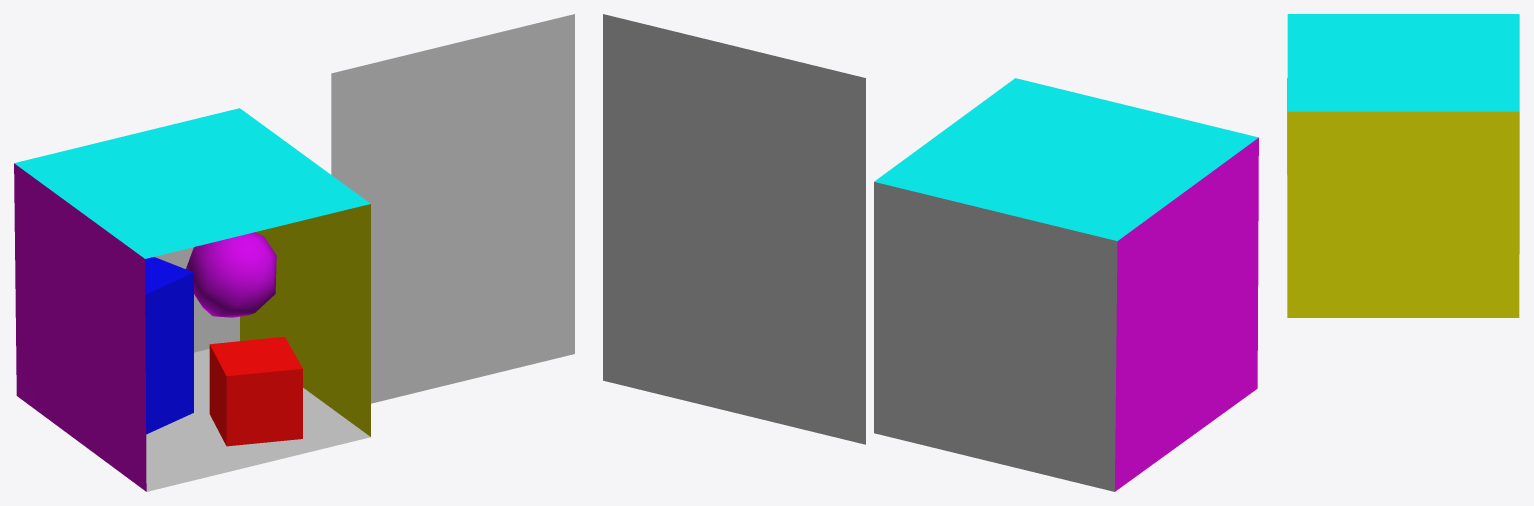
File: cornell-spicy.obj
The picture shows the model from 3 angles, left to right: view 1: azimuth 30°, elevation 25°; view 2: azimuth 150°, elevation 25°; view 3: azimuth 270°, elevation 25°; orthographic projection. The views are drawn at different scales.
Parts seen in each view (by area): view 1: floorfloor, left_wall, ceiling, right_wall, floor, short_box, tall_box, Sphere, back_wall; view 2: floorfloor, back_wall, left_wall, ceiling; view 3: right_wall, ceiling.
Boxes of the visible parts, x1,y1,x2,y2 form: floorfloor: (331, 14, 574, 403); left_wall: (14, 163, 146, 491); ceiling: (14, 108, 370, 258); right_wall: (240, 204, 370, 436); floor: (146, 349, 370, 491); short_box: (209, 336, 302, 446); tall_box: (145, 257, 193, 434); Sphere: (186, 232, 276, 317); back_wall: (154, 247, 239, 352); floorfloor: (603, 14, 865, 444); back_wall: (874, 182, 1117, 491); left_wall: (1114, 137, 1258, 491); ceiling: (874, 78, 1258, 240); right_wall: (1287, 111, 1519, 317); ceiling: (1287, 14, 1519, 111).
Size of the model in its own units: 12.78 by 8 by 5.6.
